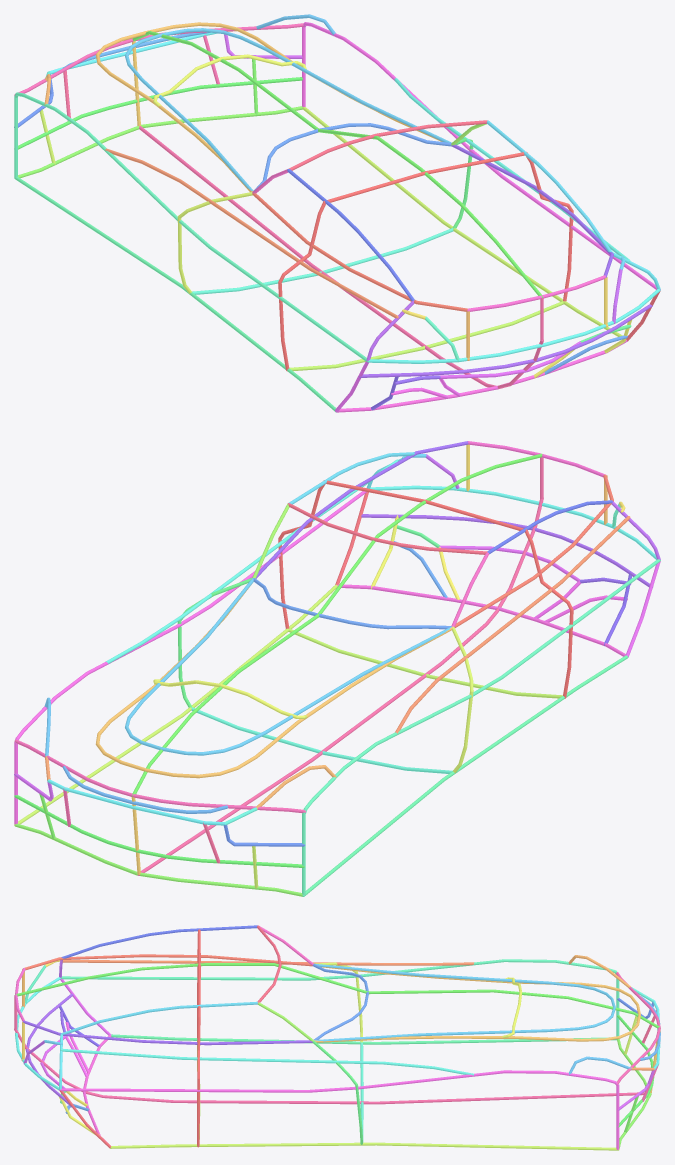
The model's file is t2f_car_93.gltf.
3 views of the same model, one above another, from view 1: azimuth 30°, elevation 25°; view 2: azimuth 150°, elevation 25°; view 3: azimuth 270°, elevation 25° (orthographic). The views are drawn at different scales.
Size of the model in its own units: 0.3762 by 0.2181 by 0.9059.
